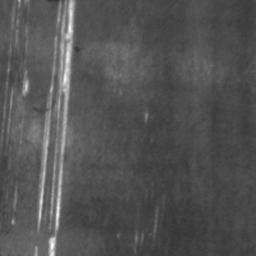Bright scratch: (37, 0, 77, 256), (23, 72, 31, 96)
